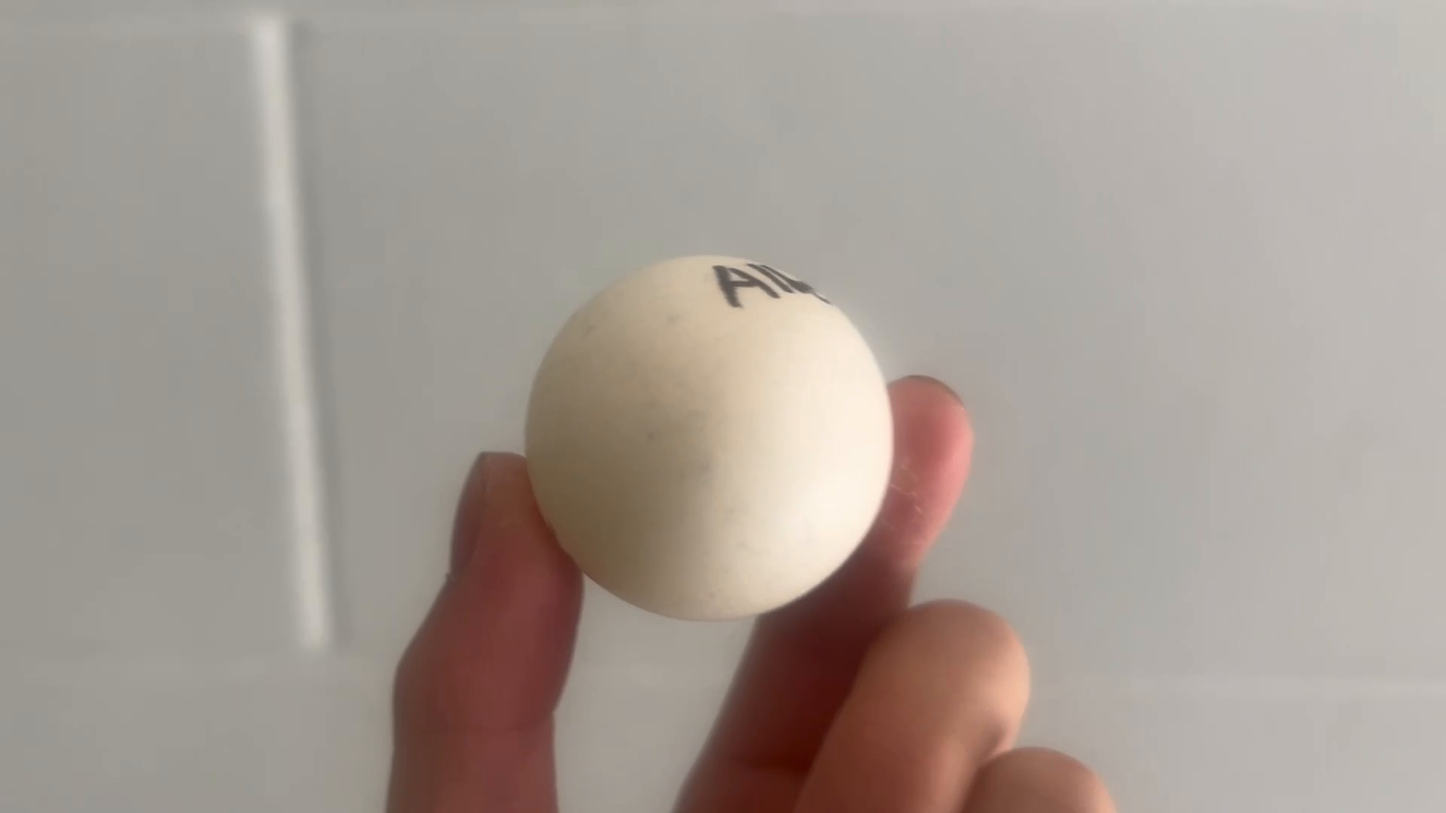Ball: (508, 239, 900, 606)
